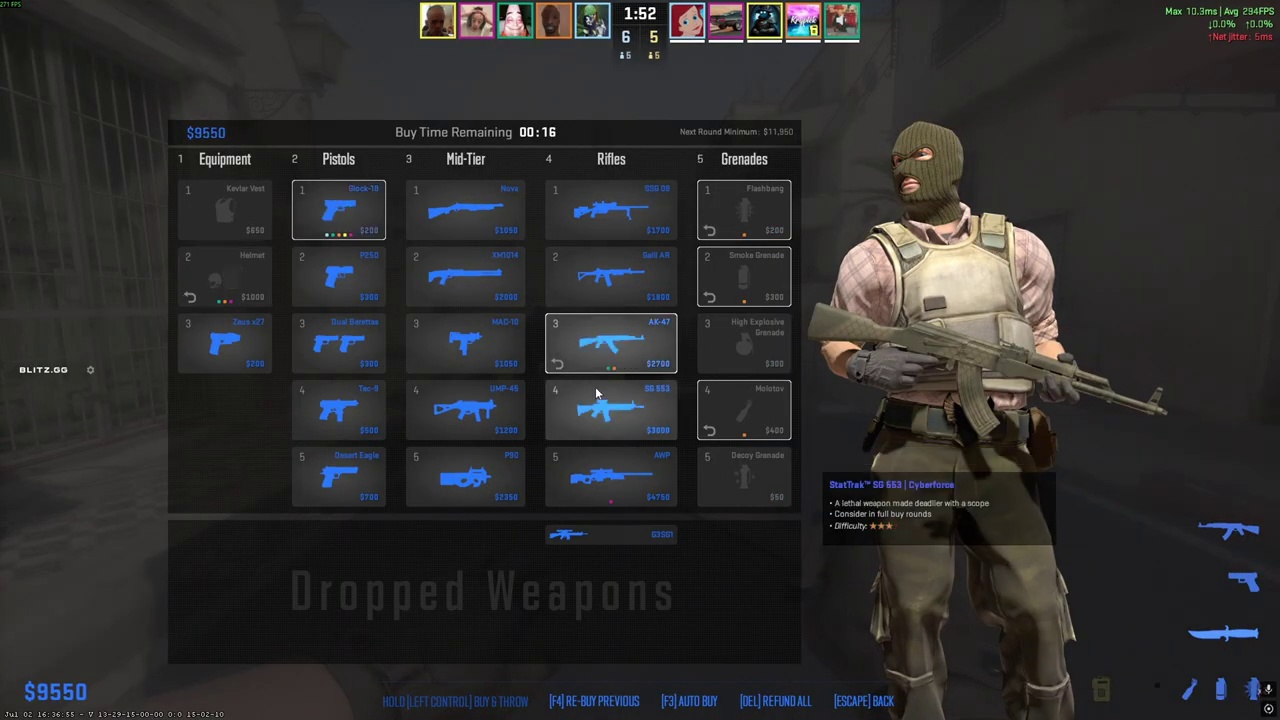Terrorist: (844, 122, 1078, 720)
